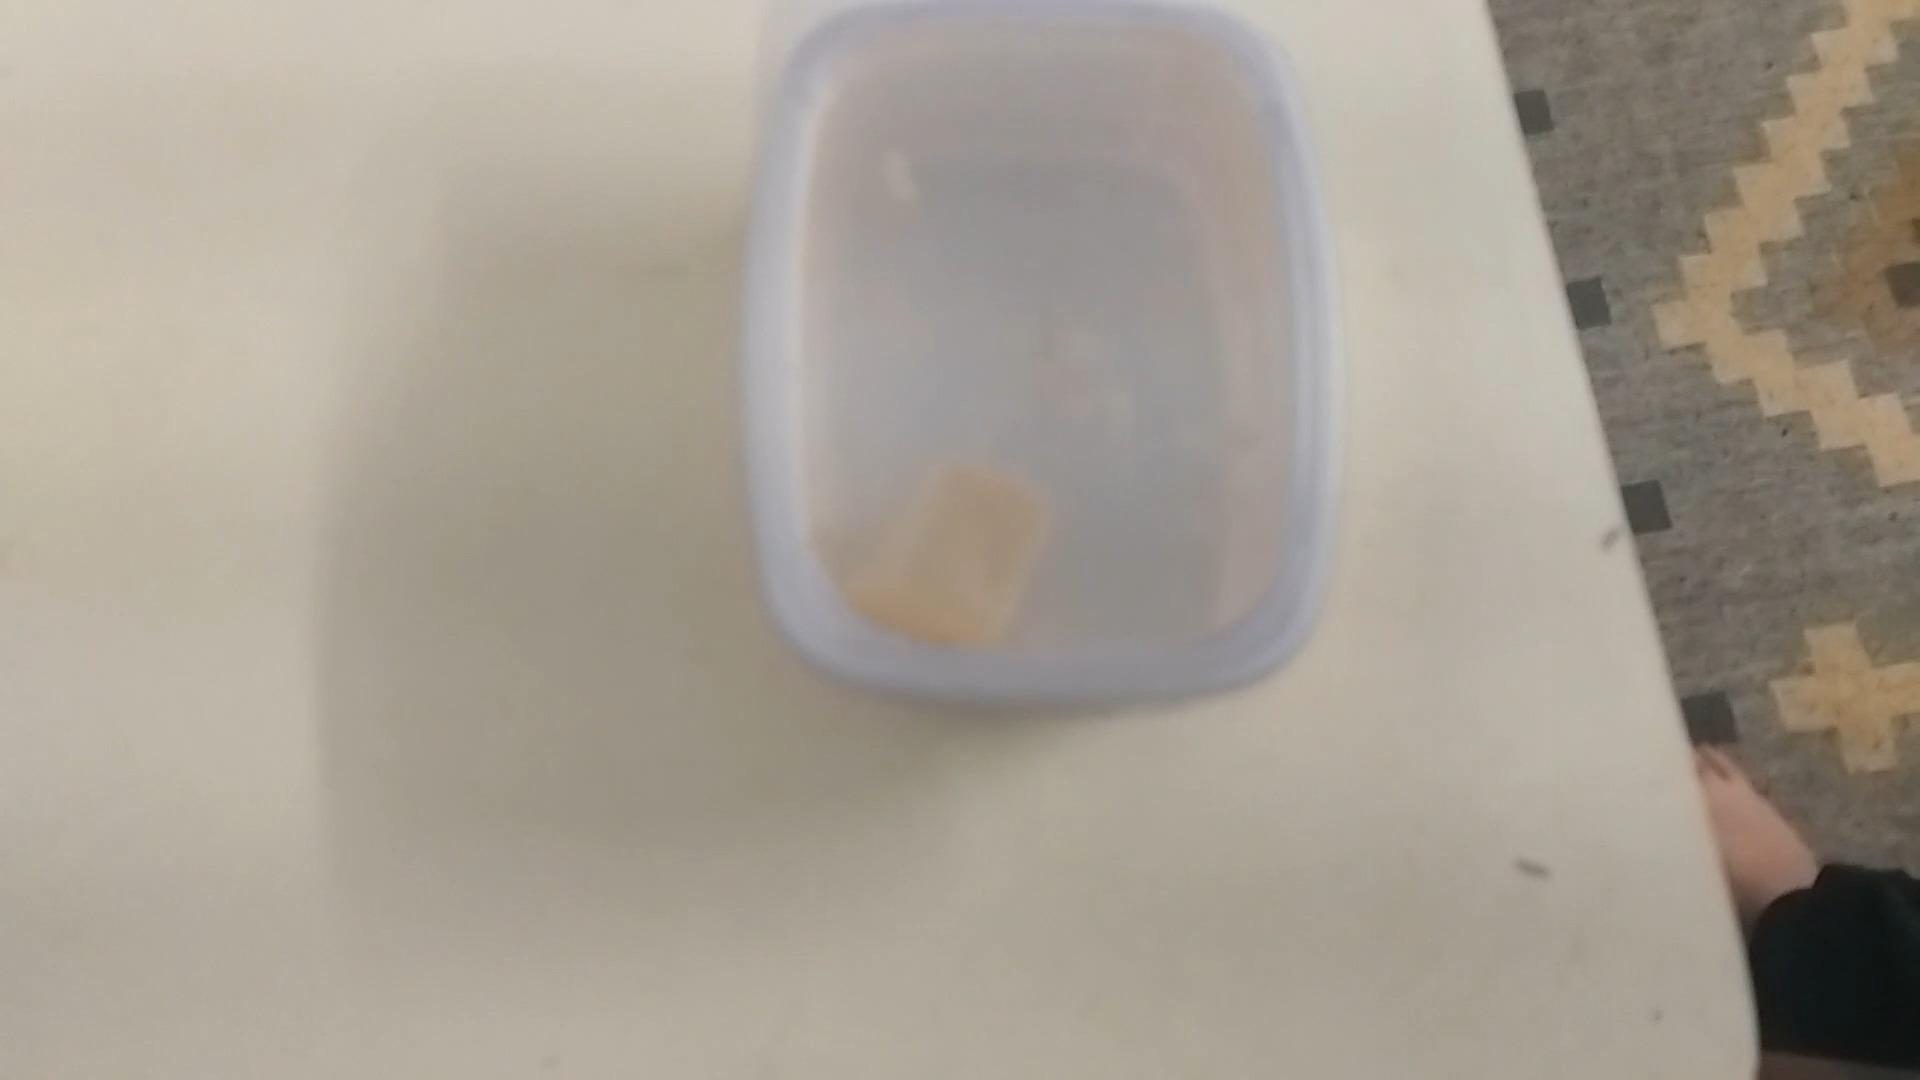butter: (741, 9, 1329, 721)
